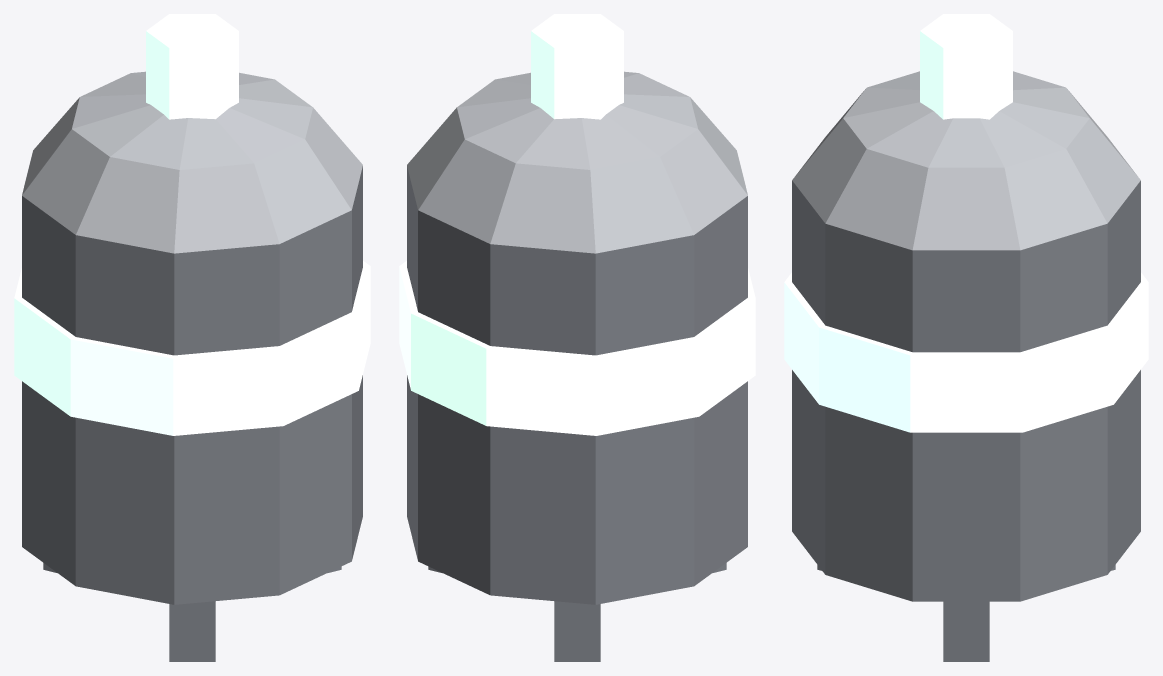
File: pod.glb
3 views of the same model, side by side, from view 1: azimuth 30°, elevation 25°; view 2: azimuth 150°, elevation 25°; view 3: azimuth 270°, elevation 25° (orthographic).
Parts seen in each view (by area): view 1: pod; view 2: pod; view 3: pod.
Part boxes in pixels (<box>): pod: <box>14,14,370,661</box>; pod: <box>399,14,755,661</box>; pod: <box>784,14,1148,661</box>.
Bounding box in the file's own units: 0.894 × 1.61 × 0.94.
